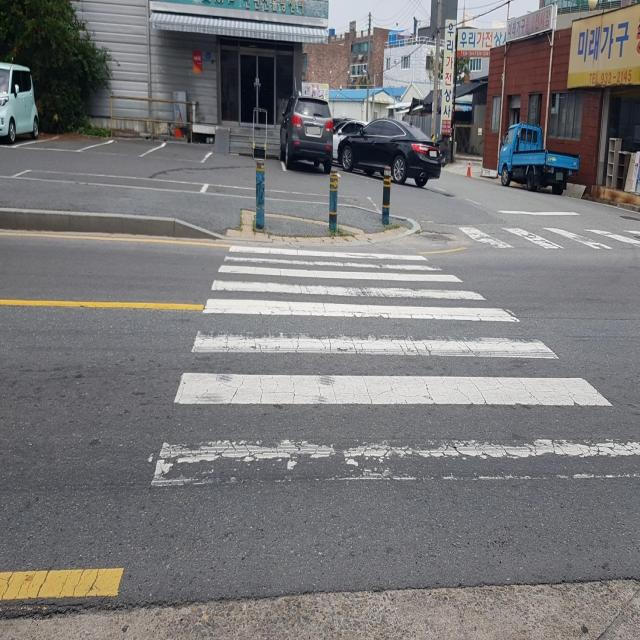횡단보도: (149, 242, 640, 490), (434, 216, 640, 248)
